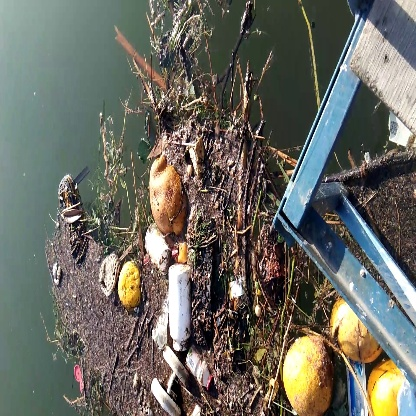ball: (271, 331, 336, 416)
